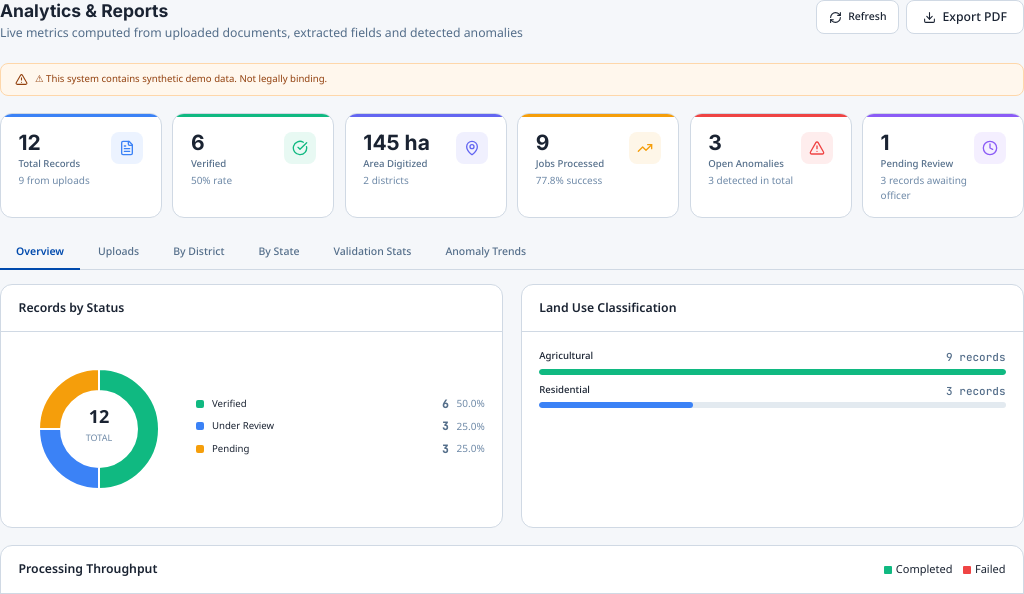
Test: ReportsPage with live analytics › lists states and districts the database actually contains
Click the button "By State".
click(279, 253)  # box [242, 236, 316, 270]
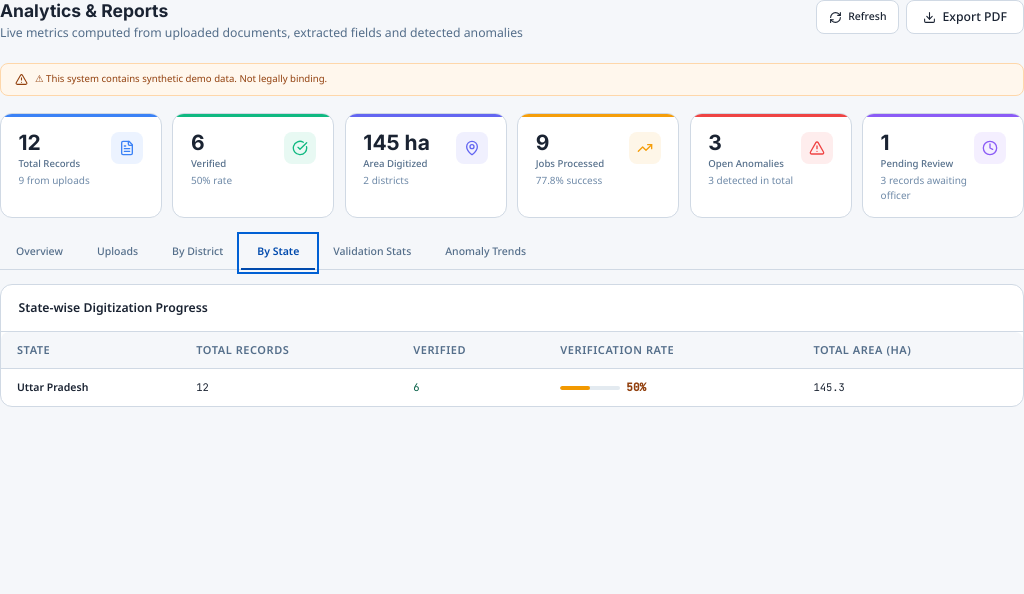
Result: the text "Uttar Pradesh" is shown at [1, 369, 180, 406]
Result: the text "50%" is shown at [626, 379, 646, 396]
Click the button "By District".
click(198, 253)  # box [156, 236, 239, 270]
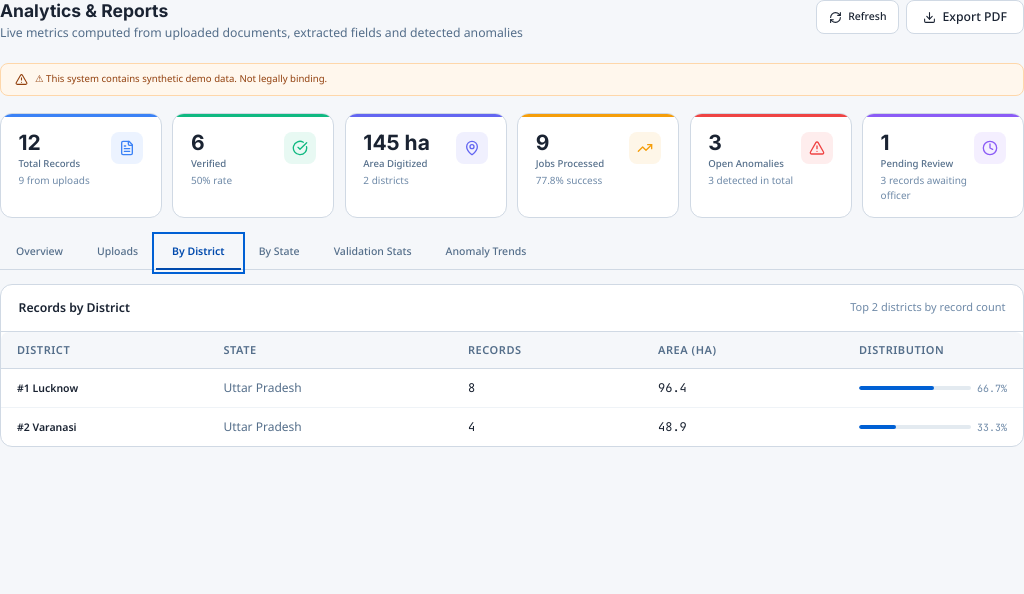
Result: the text "#1 Lucknow" is shown at [17, 380, 78, 394]
Result: the text "#2 Varanasi" is shown at [17, 420, 77, 434]
